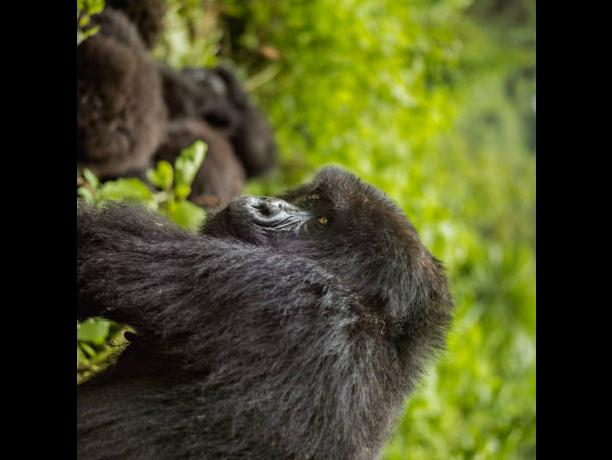goriile_montagne: (78, 165, 446, 460)
